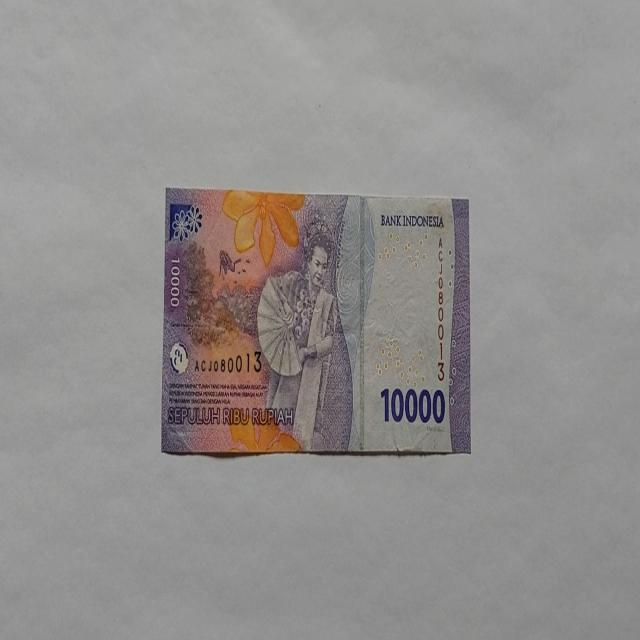sepuluh ribu rupiah: (160, 187, 472, 457)
